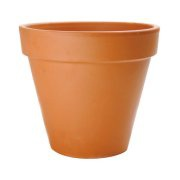flowerpot: (19, 22, 160, 158)
